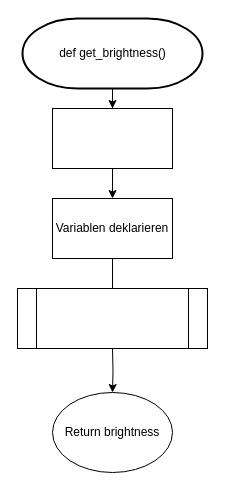
The diagram is 225 pixels wide and 490 high, and some of its shapes have lost their labels. The centre of each missing label's shape, as x and y in pixels:
Helligkeitssensor messen: the point at 112,318
Klassen importieren: the point at 112,138
